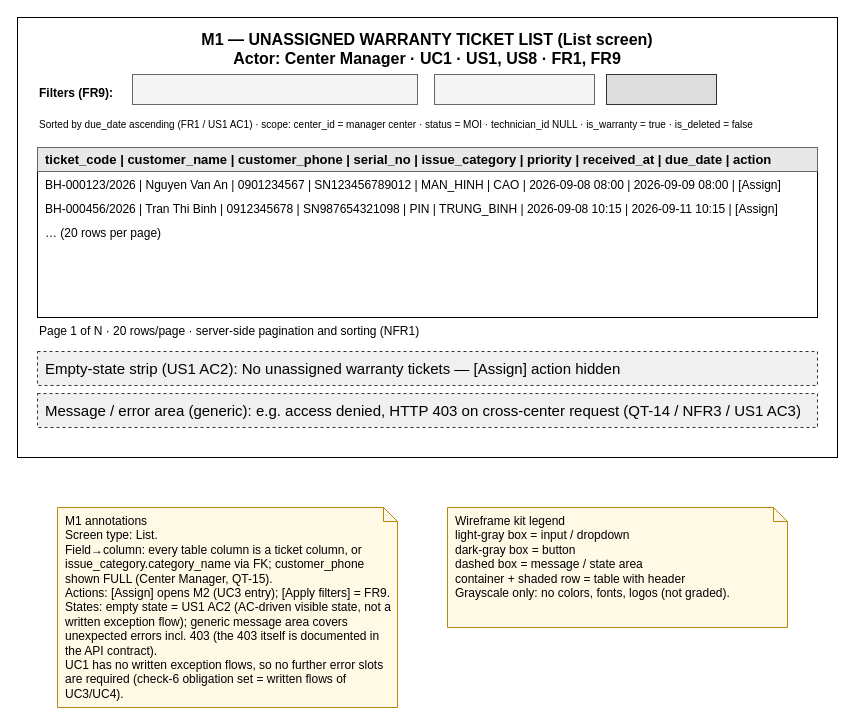
This 855x725 diagram has some shape labels left out. The box of each missing label's shape, as (x1, y1, x2, y2) in pixels:
[Apply filters]: (606, 74, 716, 104)
Issue category ▾ (issue_category.category_name): (132, 74, 418, 104)
Priority ▾ (ticket.priority): (434, 74, 594, 104)
